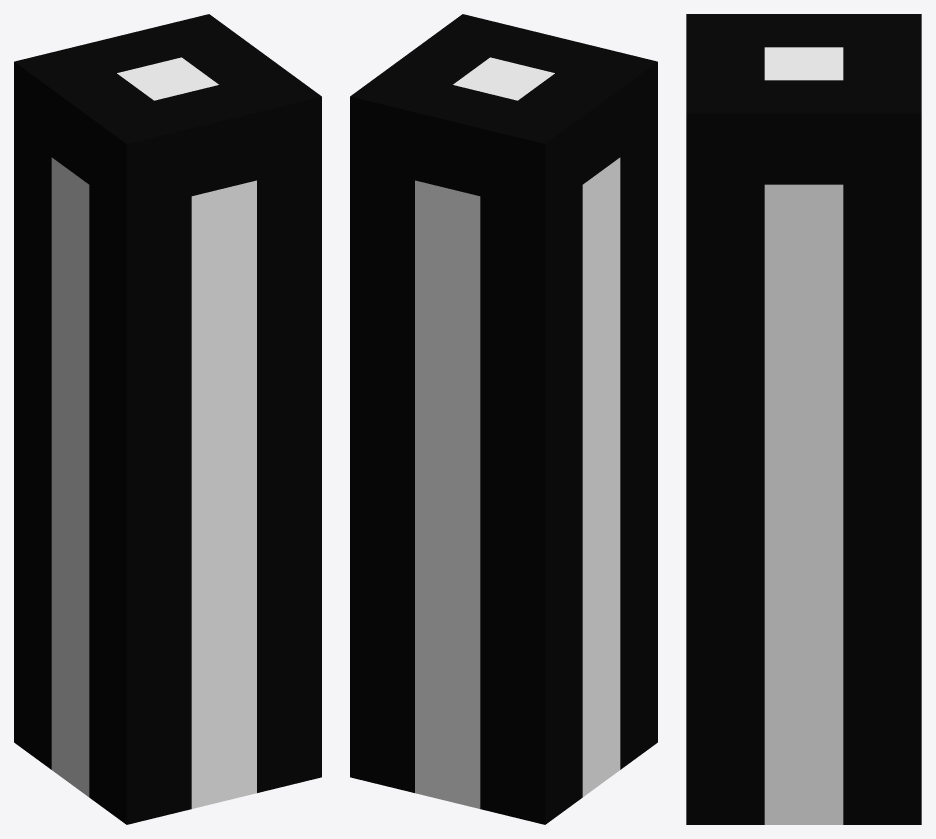
Rendered from UpperArm.obj.
The picture shows the model from 3 angles, left to right: view 1: azimuth 30°, elevation 25°; view 2: azimuth 150°, elevation 25°; view 3: azimuth 270°, elevation 25°; orthographic projection. The views are drawn at different scales.
Visible parts, largest first — view 1: UpperArm; view 2: UpperArm; view 3: UpperArm.
Boxes of the visible parts, <box> form: UpperArm: <box>14,14,321,824</box>; UpperArm: <box>350,14,657,824</box>; UpperArm: <box>686,14,921,824</box>.
Size of the model in its own units: 0.3 by 1 by 0.3.
Materials: 1 (1 with a texture image).
